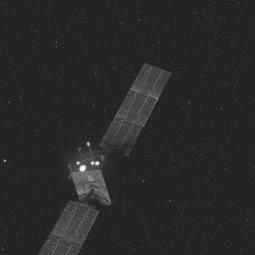smart_1: (22, 71, 167, 247)
